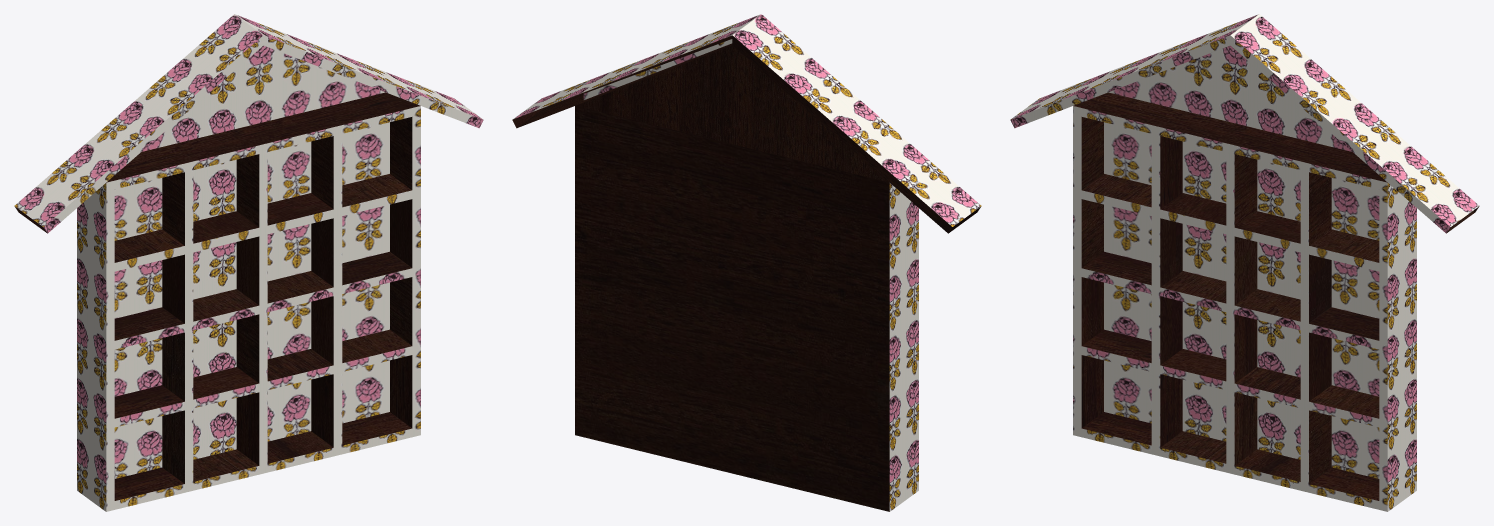
File: shelf_wallpaper_simulation.gltf
3 renders of one model, left to right at view 1: azimuth 30°, elevation 25°; view 2: azimuth 150°, elevation 25°; view 3: azimuth 330°, elevation 25°, orthographic.
Visible parts, largest first — view 1: group_0.016, Image Plane Vihkiruusu_135_maripedia.png, group_1, group_2.001, group_0.017, group_3.001; view 2: group_0.016, group_4, group_2.001, group_0.017, group_2, group_3.001, group_3, Image Plane Vihkiruusu_135_maripedia.png; view 3: group_0.016, Image Plane Vihkiruusu_135_maripedia.png, group_1, group_3.001, group_0.017, group_2.001.
Boxes of the visible parts, x1,y1,x2,y2 form: group_0.016: [106, 92, 420, 500]; Image Plane Vihkiruusu_135_maripedia.png: [114, 45, 389, 478]; group_1: [43, 35, 483, 511]; group_2.001: [14, 14, 263, 226]; group_0.017: [77, 183, 106, 511]; group_3.001: [235, 14, 482, 119]; group_0.016: [575, 106, 889, 511]; group_4: [575, 45, 889, 182]; group_2.001: [732, 14, 981, 226]; group_0.017: [889, 183, 918, 511]; group_2: [732, 35, 981, 233]; group_3.001: [513, 14, 760, 119]; group_3: [512, 35, 732, 128]; Image Plane Vihkiruusu_135_maripedia.png: [583, 39, 732, 99]; group_0.016: [1073, 92, 1387, 500]; Image Plane Vihkiruusu_135_maripedia.png: [1104, 45, 1379, 478]; group_1: [1010, 35, 1450, 511]; group_3.001: [1230, 14, 1479, 226]; group_0.017: [1387, 183, 1416, 511]; group_2.001: [1011, 14, 1258, 119].
Bounding box in the file's own units: 0.4198 × 0.3993 × 0.048.
2 materials, 2 textured.
